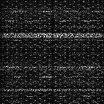lte: (1, 32, 104, 38), (1, 66, 103, 70), (1, 88, 103, 91)
